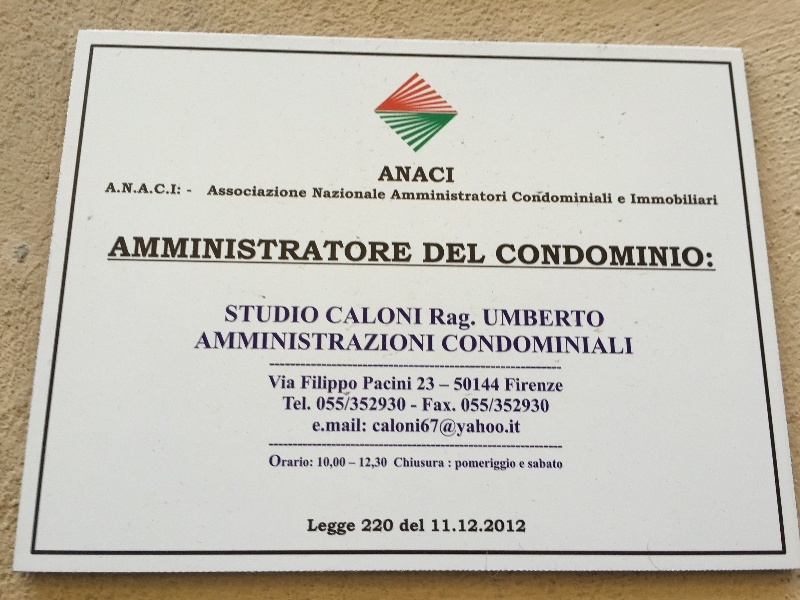text: (129, 234, 144, 264), (145, 234, 160, 264), (161, 234, 176, 264), (177, 234, 192, 264), (193, 234, 208, 264), (209, 234, 224, 264), (225, 234, 240, 264), (241, 234, 256, 264), (257, 234, 272, 264), (273, 234, 288, 264), (289, 234, 304, 264), (305, 234, 320, 264), (321, 234, 336, 264), (337, 234, 352, 264), (353, 234, 368, 264), (369, 234, 384, 264), (385, 234, 400, 264), (401, 234, 414, 264), (497, 243, 512, 269), (513, 243, 528, 269), (529, 243, 544, 269), (545, 243, 560, 269), (561, 243, 576, 269), (577, 243, 592, 269), (593, 243, 608, 269), (609, 243, 624, 269), (625, 243, 640, 269), (641, 243, 656, 269), (657, 243, 672, 269), (673, 243, 688, 269), (689, 243, 704, 269), (433, 240, 448, 265), (449, 240, 464, 265), (465, 240, 480, 265), (433, 308, 448, 333), (449, 308, 464, 333), (449, 333, 464, 357), (465, 333, 480, 357), (481, 333, 496, 357), (497, 333, 512, 357), (513, 333, 528, 357), (529, 333, 544, 357), (545, 333, 560, 357), (561, 333, 576, 357), (577, 333, 592, 357), (593, 333, 608, 357), (609, 333, 624, 357), (209, 331, 224, 354), (225, 331, 240, 354), (241, 331, 256, 354), (257, 331, 272, 354), (273, 331, 288, 354), (289, 331, 304, 354), (305, 331, 320, 354), (321, 331, 336, 354), (337, 331, 352, 354), (353, 331, 368, 354), (369, 331, 384, 354), (385, 331, 400, 354), (401, 331, 416, 354), (417, 331, 432, 354), (705, 243, 717, 269), (241, 304, 256, 324), (257, 304, 272, 324), (273, 304, 288, 324), (289, 304, 304, 324), (305, 375, 320, 395), (321, 375, 336, 395), (337, 375, 352, 395), (385, 418, 400, 438), (401, 418, 416, 438), (417, 418, 432, 438), (433, 418, 448, 438), (449, 418, 464, 438), (465, 418, 480, 438), (481, 418, 496, 438), (497, 418, 512, 438), (625, 333, 637, 357), (385, 165, 400, 184), (401, 165, 416, 184), (417, 165, 432, 184), (433, 165, 448, 184), (337, 306, 352, 325), (353, 306, 368, 325), (369, 306, 384, 325), (385, 306, 400, 325), (401, 306, 416, 325), (497, 308, 512, 327), (513, 308, 528, 327), (529, 308, 544, 327), (545, 308, 560, 327), (561, 308, 576, 327), (577, 308, 592, 327), (305, 304, 319, 324), (465, 308, 476, 333), (119, 234, 128, 264), (321, 518, 336, 536), (337, 518, 352, 536), (482, 308, 496, 327), (227, 304, 240, 324), (321, 395, 336, 412), (337, 395, 352, 412), (353, 395, 368, 412), (369, 395, 384, 412), (385, 395, 400, 412), (465, 397, 480, 414), (481, 397, 496, 414), (497, 397, 512, 414), (513, 397, 528, 414), (529, 397, 544, 414), (369, 375, 384, 391), (385, 375, 400, 391), (337, 417, 352, 433), (433, 518, 448, 534), (449, 518, 464, 534), (465, 518, 480, 534), (481, 518, 496, 534), (497, 518, 512, 534), (307, 518, 320, 536), (423, 240, 432, 265), (273, 375, 288, 390), (289, 396, 304, 411), (417, 377, 432, 392), (433, 377, 448, 392), (449, 377, 464, 392), (465, 377, 480, 392), (481, 377, 496, 392), (433, 397, 448, 412), (513, 377, 528, 392), (529, 377, 544, 392), (545, 377, 560, 392), (273, 454, 288, 469), (289, 454, 304, 469), (369, 518, 384, 533), (401, 517, 416, 532), (465, 457, 480, 472), (481, 457, 496, 472), (497, 457, 512, 472), (373, 418, 384, 438), (113, 182, 128, 196), (129, 182, 144, 196), (145, 182, 160, 196), (161, 182, 176, 196), (225, 185, 240, 199), (241, 185, 256, 199), (257, 185, 272, 199), (273, 185, 288, 199), (289, 185, 304, 199), (401, 189, 416, 203), (417, 189, 432, 203), (433, 189, 448, 203), (449, 189, 464, 203), (465, 189, 480, 203), (481, 189, 496, 203), (513, 190, 528, 204), (529, 190, 544, 204), (545, 190, 560, 204), (561, 190, 576, 204), (577, 190, 592, 204), (593, 190, 608, 204), (593, 308, 604, 327), (353, 417, 366, 433), (513, 518, 526, 534), (321, 187, 336, 200), (337, 187, 352, 200), (353, 187, 368, 200), (369, 187, 384, 200), (641, 193, 656, 206), (657, 193, 672, 206), (673, 193, 688, 206), (689, 193, 704, 206), (529, 457, 544, 470), (545, 457, 560, 470), (321, 457, 336, 470), (369, 457, 384, 470), (401, 375, 413, 391), (326, 306, 336, 325), (705, 193, 719, 206), (513, 418, 522, 438), (401, 457, 416, 469), (417, 457, 432, 469), (433, 457, 448, 469), (481, 240, 488, 265), (212, 185, 224, 199), (326, 417, 336, 433), (497, 189, 508, 203), (422, 397, 432, 412), (417, 517, 426, 532), (455, 457, 464, 472), (630, 193, 640, 206), (504, 377, 512, 392), (305, 454, 313, 469), (385, 518, 393, 533), (449, 165, 455, 184), (417, 306, 423, 325), (289, 375, 296, 390), (449, 397, 456, 412), (337, 457, 345, 470), (360, 457, 368, 470), (444, 333, 448, 357), (204, 331, 208, 354), (433, 331, 437, 354), (313, 187, 320, 200), (305, 396, 311, 411), (362, 518, 368, 533), (401, 395, 406, 412), (545, 397, 550, 414), (394, 189, 400, 203), (313, 421, 320, 433), (519, 460, 528, 469), (353, 375, 357, 395), (363, 375, 368, 391), (429, 308, 432, 333), (283, 396, 288, 411), (268, 375, 272, 390), (301, 375, 304, 395), (497, 377, 501, 392), (395, 457, 400, 469), (177, 182, 181, 196), (609, 190, 613, 204), (353, 518, 356, 536), (618, 196, 624, 204), (321, 421, 325, 433), (561, 377, 564, 392), (513, 457, 516, 472), (318, 395, 320, 412), (462, 397, 464, 414), (270, 454, 272, 469), (110, 182, 112, 196), (305, 185, 307, 199), (561, 457, 563, 470), (385, 457, 387, 470), (449, 457, 451, 469), (411, 404, 416, 408), (385, 187, 386, 200), (319, 457, 320, 470), (187, 190, 192, 192), (625, 196, 626, 204), (349, 463, 352, 465), (353, 463, 356, 465)
